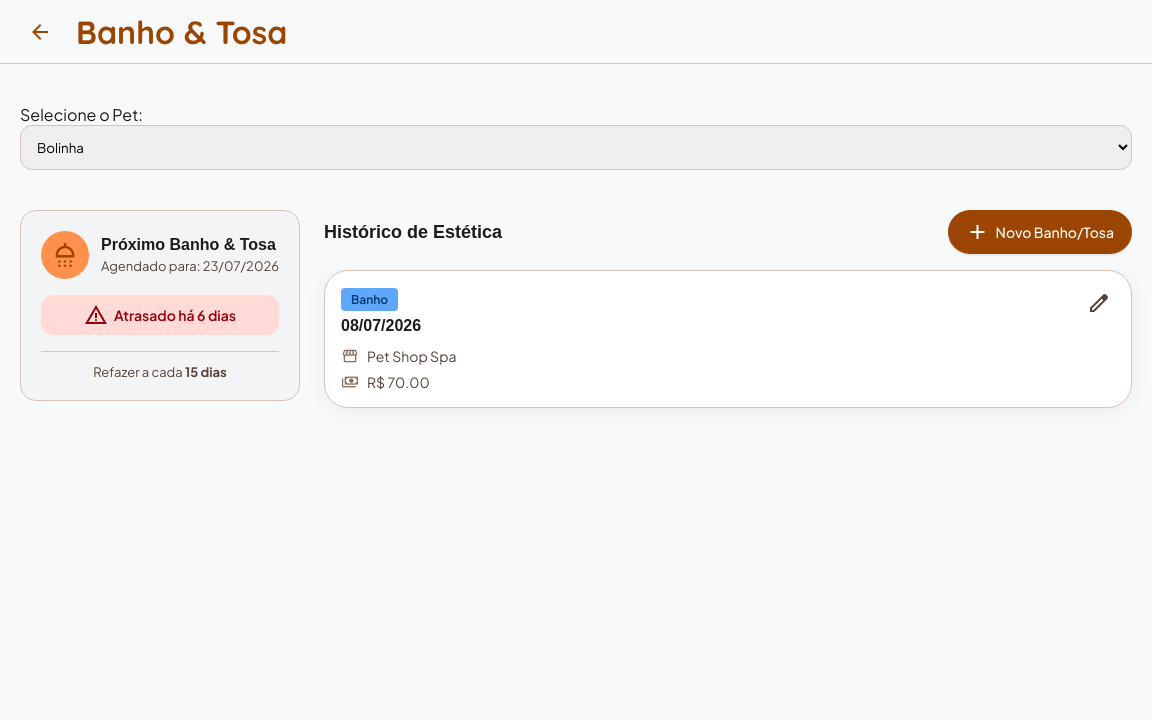
Test: GroomingPageContent Component › should open modal when clicking "Novo Banho/Tosa"
Click the button with test id "btn-open-grooming-form". click: [1040, 232]
box: [948,210,1132,254]
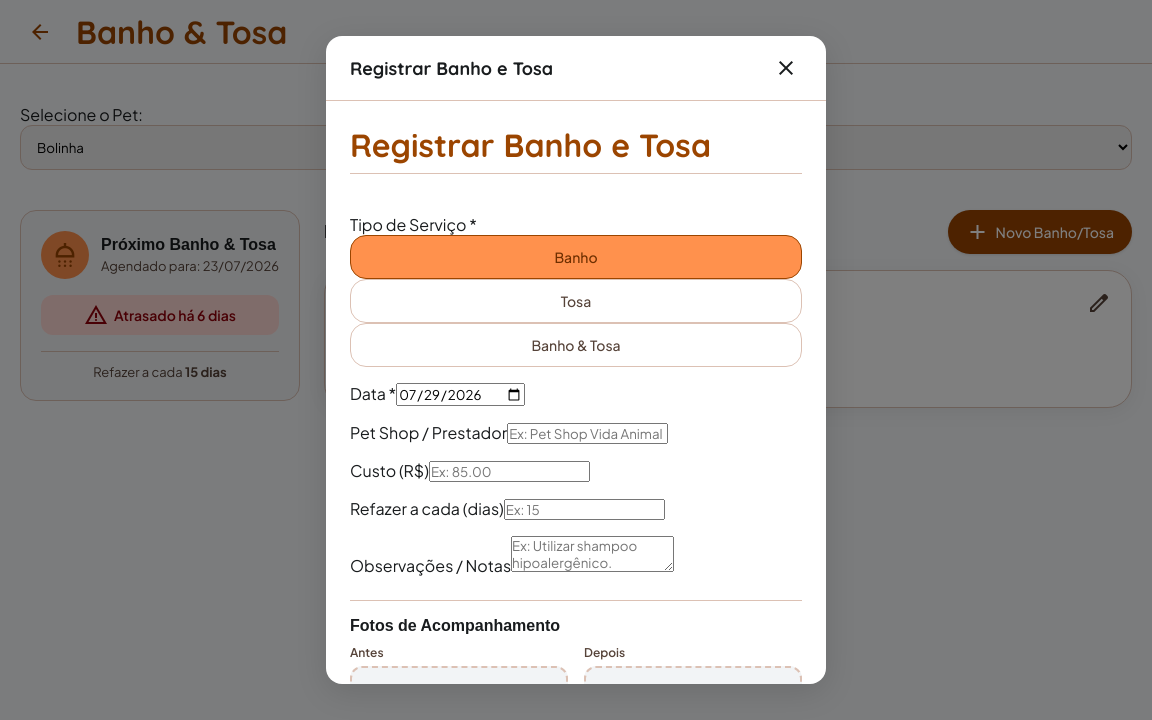
Now the 1st heading "Registrar Banho e Tosa" is shown, box [350,56,553,80]
